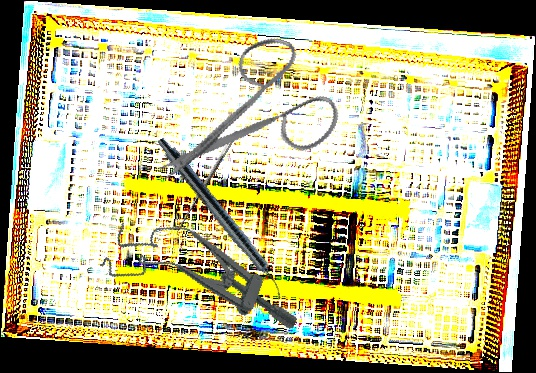Handpiece: (151, 135, 292, 301)
Hook Surgical: (172, 129, 247, 240)
Iris Scissors: (153, 14, 357, 229)
Speculum: (97, 203, 314, 345)
